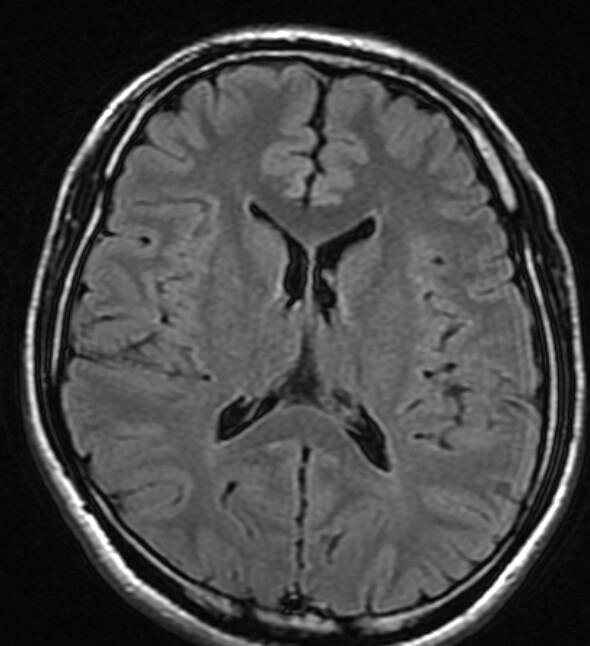Normal_Brain: (1, 1, 590, 646)
